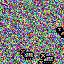sheep: (40, 52, 55, 64), (20, 49, 34, 60)
